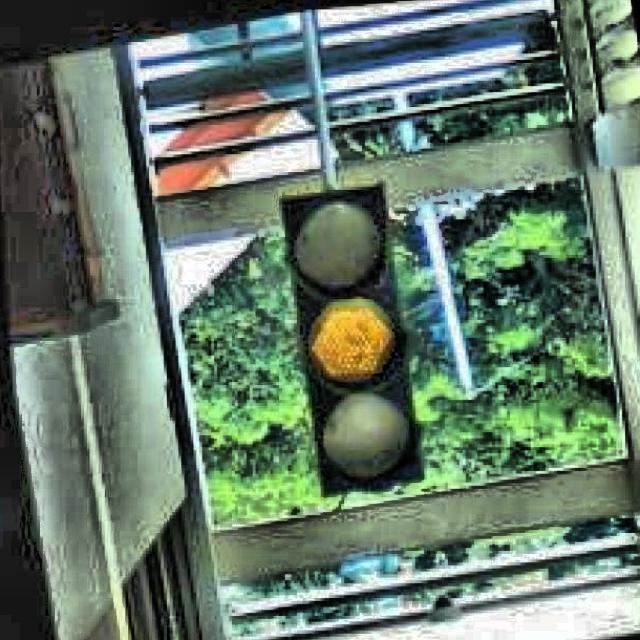yellow: (278, 175, 425, 514)
